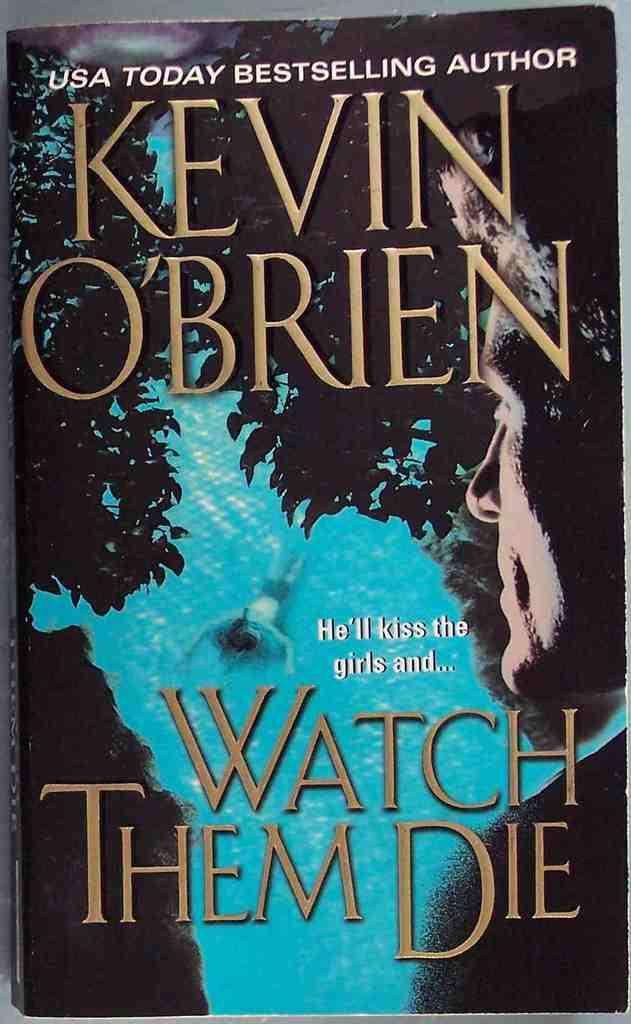Book: (2, 2, 626, 1019)
